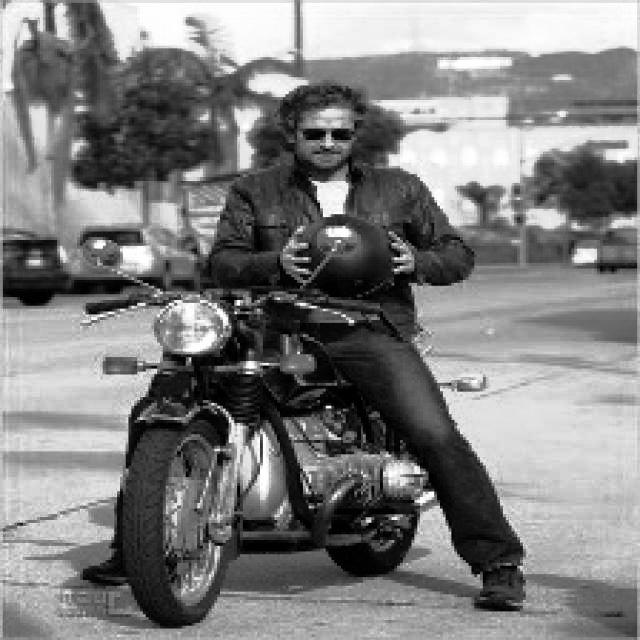Bike: (88, 264, 448, 624)
